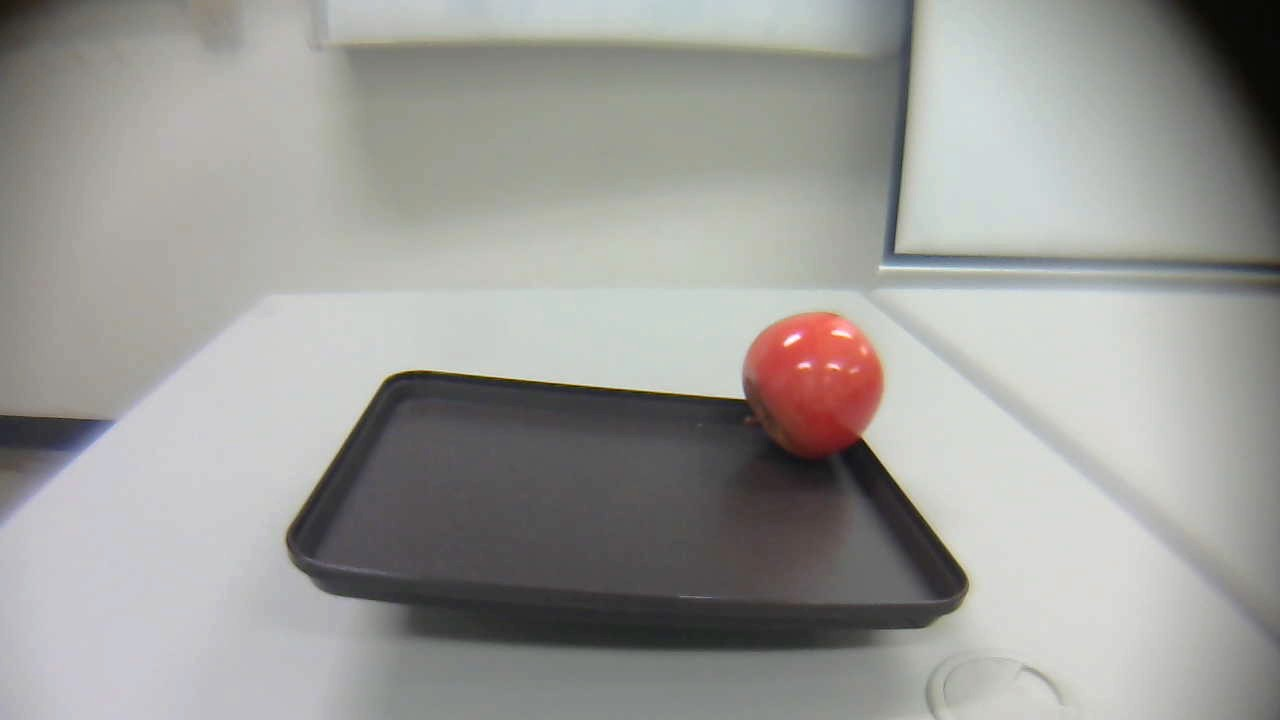red apple: (734, 311, 894, 464)
